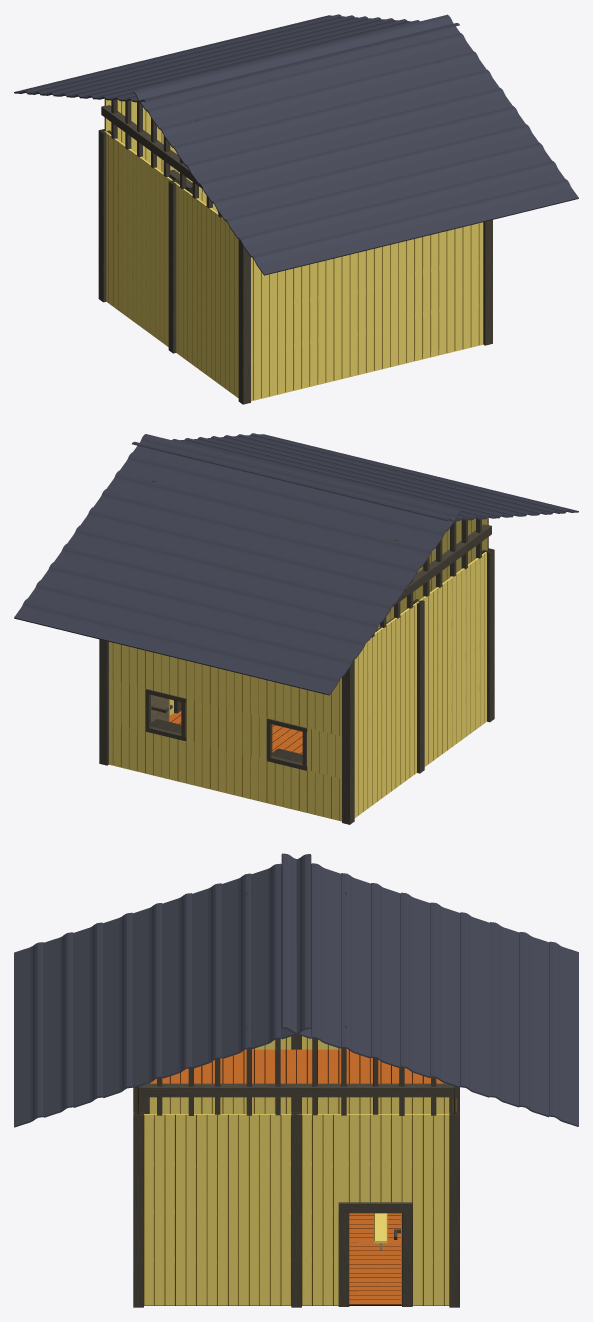
Rendered from SampleB.fbx.
3 views of the same model, one above another, from view 1: azimuth 30°, elevation 25°; view 2: azimuth 150°, elevation 25°; view 3: azimuth 270°, elevation 25° (orthographic). The views are drawn at different scales.
Parts seen in each view (by area): view 1: Roof1_A.001, Wood1_A.011, Roof1_A, Wood1_A.002, Wood1_A.008, Wood1_A.009, Wood2Dark_A.035, Wood2Dark_A.006, Wood2Dark_A.002, Wood2Dark_A.004, Wood2Dark_A.005, Wood1_A.012; view 2: Roof1_A, Wood1_A.011, Roof1_A.001, Wood1_A.001, Wood1_A.012, Wood1_A.004, Wood2Dark_A.035, Wood2Dark_A.004, Wood1_A.006, Wood1_A.005, Wood2Dark_A.002, Wood2Dark_A.006 (+5 smaller); view 3: Roof1_A.001, Roof1_A, Wood1_A.015, Wood1_A.016, Wood2Dark_A.036, Wood1Dark_A.002, Wood1_A.017, Wood1_A.011, Wood1Dark_A.001, Wood2Dark_A.001, Wood2Dark_A.003, Wood2Dark_A.005 (+3 smaller).
Part boxes in pixels (x1,y1,x2,y2): Roof1_A.001: (133,14,578,275); Wood1_A.011: (104,131,238,398); Roof1_A: (14,14,459,102); Wood1_A.002: (251,302,483,400); Wood1_A.008: (251,260,483,358); Wood1_A.009: (251,222,483,316); Wood2Dark_A.035: (101,99,221,217); Wood2Dark_A.006: (238,239,250,404); Wood2Dark_A.002: (168,179,179,353); Wood2Dark_A.004: (98,129,111,302); Wood2Dark_A.005: (483,220,492,345); Wood1_A.012: (110,120,203,192); Roof1_A: (14,434,460,695); Wood1_A.011: (354,552,486,817); Roof1_A.001: (132,433,578,521); Wood1_A.001: (109,722,341,820); Wood1_A.012: (109,642,341,736); Wood1_A.004: (186,698,266,760); Wood2Dark_A.035: (371,519,491,637); Wood2Dark_A.004: (342,660,354,824); Wood1_A.006: (109,679,145,730); Wood1_A.005: (307,728,341,778); Wood2Dark_A.002: (413,599,424,773); Wood2Dark_A.006: (482,548,494,722); Roof1_A.001: (14,854,311,1127); Roof1_A: (281,853,578,1126); Wood1_A.015: (144,1114,343,1305); Wood1_A.016: (402,1114,449,1305); Wood2Dark_A.036: (138,1026,454,1115); Wood1Dark_A.002: (148,1049,445,1083); Wood1_A.017: (339,1114,401,1202); Wood1_A.011: (149,1036,449,1113); Wood1Dark_A.001: (144,1213,448,1305); Wood2Dark_A.001: (291,1112,301,1307); Wood2Dark_A.003: (449,1112,459,1307); Wood2Dark_A.005: (133,1112,143,1307).
Size of the model in its own units: 7820 by 6266 by 10723.
Materials: 4 (3 with a texture image).
